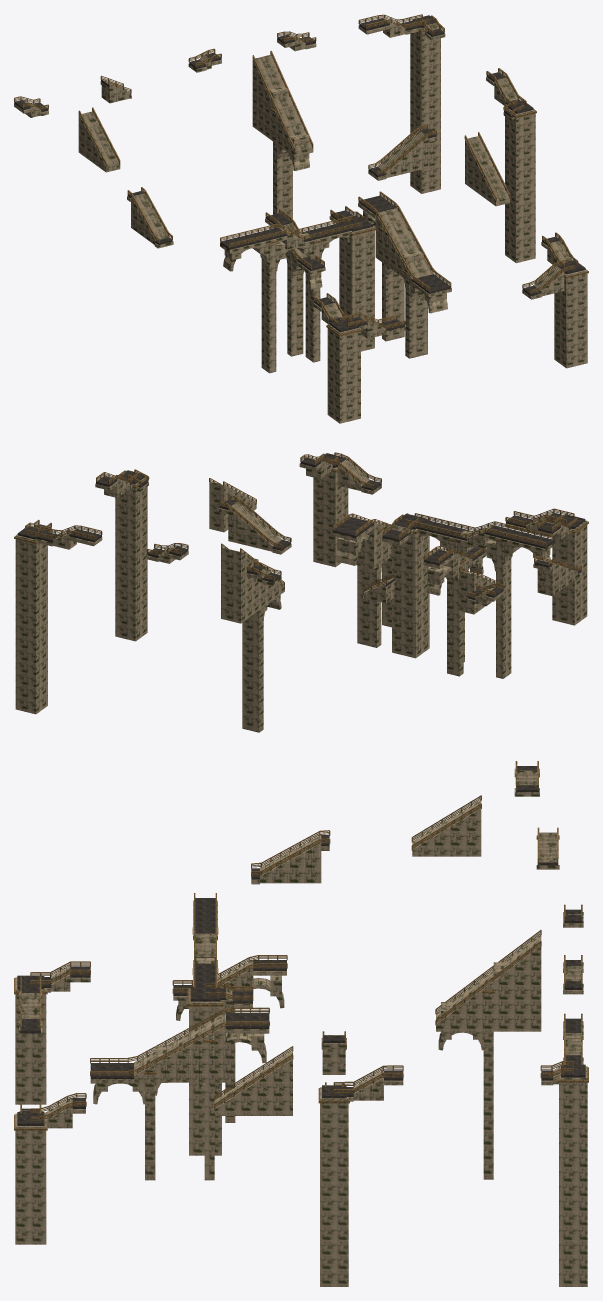
The model's file is Bridges.fbx.
The picture shows the model from 3 angles, top to bottom: view 1: azimuth 30°, elevation 25°; view 2: azimuth 150°, elevation 25°; view 3: azimuth 270°, elevation 25°; orthographic projection. The views are drawn at different scales.
Visible parts, largest first — view 1: Bridge_Miniboss_Arena_LOD0, Bridge_Arena_Sanctum_LOD0, Bridge_Trap_CombatC_LOD0, Bridge_Treasure_Trap_LOD0, Bridge_Shrine_Arena_LOD0, Bridge_GalleryW_Sanctum_LOD0, Bridge_GalleryE_Sanctum_LOD0, Bridge_Arena_GalleryW_LOD0, Bridge_CombatC_GalleryE_LOD0, Bridge_CombatC_Arena_LOD0, Bridge_Gate_CombatB_LOD0, Bridge_CombatB_Miniboss_LOD0 (+4 smaller); view 2: Bridge_Miniboss_Arena_LOD0, Bridge_Treasure_Trap_LOD0, Bridge_Trap_CombatC_LOD0, Bridge_Shrine_Arena_LOD0, Bridge_Arena_Sanctum_LOD0, Bridge_GalleryE_Sanctum_LOD0, Bridge_GalleryW_Sanctum_LOD0, Bridge_Arena_GalleryW_LOD0, Bridge_CombatC_Arena_LOD0, Bridge_CombatB_Miniboss_LOD0, Bridge_CombatC_GalleryE_LOD0, Bridge_Gate_CombatB_LOD0 (+4 smaller); view 3: Bridge_Arena_Sanctum_LOD0, Bridge_Shrine_Arena_LOD0, Bridge_Treasure_Trap_LOD0, Bridge_Trap_CombatC_LOD0, Bridge_Miniboss_Arena_LOD0, Bridge_GalleryE_Sanctum_LOD0, Bridge_GalleryW_Sanctum_LOD0, Bridge_CombatC_GalleryE_LOD0, Bridge_Arena_GalleryW_LOD0, Bridge_Gate_CombatB_LOD0, Bridge_CombatB_Miniboss_LOD0, Bridge_CombatC_Arena_LOD0 (+3 smaller).
Boxes of the visible parts, x1,y1,x2,y2 form: Bridge_Miniboss_Arena_LOD0: [220, 206, 376, 373]; Bridge_Arena_Sanctum_LOD0: [358, 191, 451, 358]; Bridge_Trap_CombatC_LOD0: [486, 68, 536, 263]; Bridge_Treasure_Trap_LOD0: [358, 14, 445, 193]; Bridge_Shrine_Arena_LOD0: [252, 50, 313, 259]; Bridge_GalleryW_Sanctum_LOD0: [312, 293, 405, 423]; Bridge_GalleryE_Sanctum_LOD0: [522, 232, 588, 368]; Bridge_Arena_GalleryW_LOD0: [265, 209, 325, 356]; Bridge_CombatC_GalleryE_LOD0: [464, 132, 510, 206]; Bridge_CombatC_Arena_LOD0: [368, 124, 436, 180]; Bridge_Gate_CombatB_LOD0: [78, 107, 120, 172]; Bridge_CombatB_Miniboss_LOD0: [127, 187, 173, 248]; Bridge_Miniboss_Arena_LOD0: [382, 513, 555, 678]; Bridge_Treasure_Trap_LOD0: [14, 519, 102, 714]; Bridge_Trap_CombatC_LOD0: [95, 469, 149, 641]; Bridge_Shrine_Arena_LOD0: [221, 543, 284, 732]; Bridge_Arena_Sanctum_LOD0: [332, 513, 430, 647]; Bridge_GalleryE_Sanctum_LOD0: [299, 452, 381, 567]; Bridge_GalleryW_Sanctum_LOD0: [505, 508, 588, 625]; Bridge_Arena_GalleryW_LOD0: [423, 546, 486, 676]; Bridge_CombatC_Arena_LOD0: [219, 495, 291, 554]; Bridge_CombatB_Miniboss_LOD0: [533, 555, 582, 596]; Bridge_CombatC_GalleryE_LOD0: [209, 478, 256, 532]; Bridge_Gate_CombatB_LOD0: [459, 567, 502, 614]; Bridge_Arena_Sanctum_LOD0: [90, 1007, 269, 1180]; Bridge_Shrine_Arena_LOD0: [435, 930, 541, 1179]; Bridge_Treasure_Trap_LOD0: [540, 1013, 588, 1286]; Bridge_Trap_CombatC_LOD0: [318, 1065, 403, 1286]; Bridge_Miniboss_Arena_LOD0: [187, 893, 253, 1155]; Bridge_GalleryE_Sanctum_LOD0: [14, 1093, 86, 1244]; Bridge_GalleryW_Sanctum_LOD0: [14, 961, 90, 1104]; Bridge_CombatC_GalleryE_LOD0: [214, 1046, 293, 1115]; Bridge_Arena_GalleryW_LOD0: [172, 955, 287, 1122]; Bridge_Gate_CombatB_LOD0: [411, 795, 481, 856]; Bridge_CombatB_Miniboss_LOD0: [251, 830, 330, 884]; Bridge_CombatC_Arena_LOD0: [321, 1031, 346, 1074].
Size of what is drawn, in the model's own units: 139 by 62.38 by 125.
